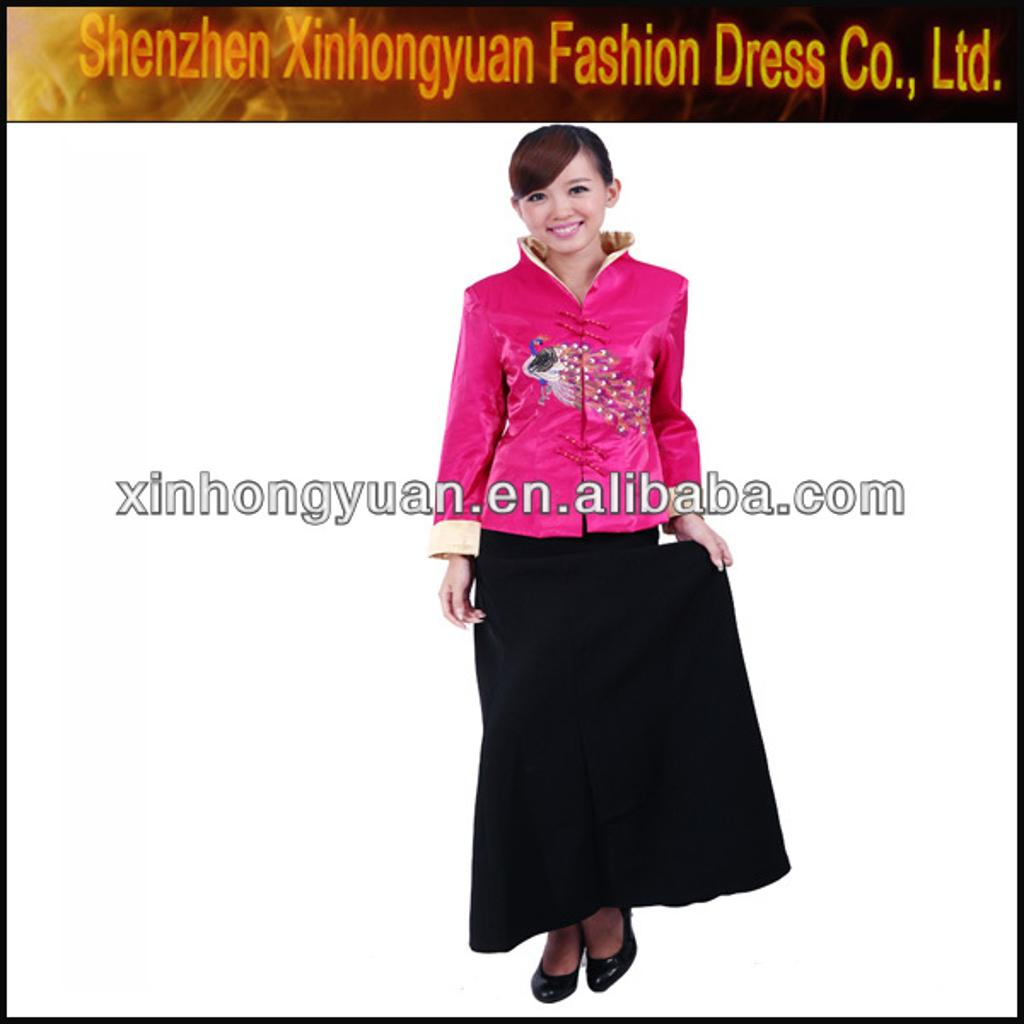face: (518, 148, 606, 256)
